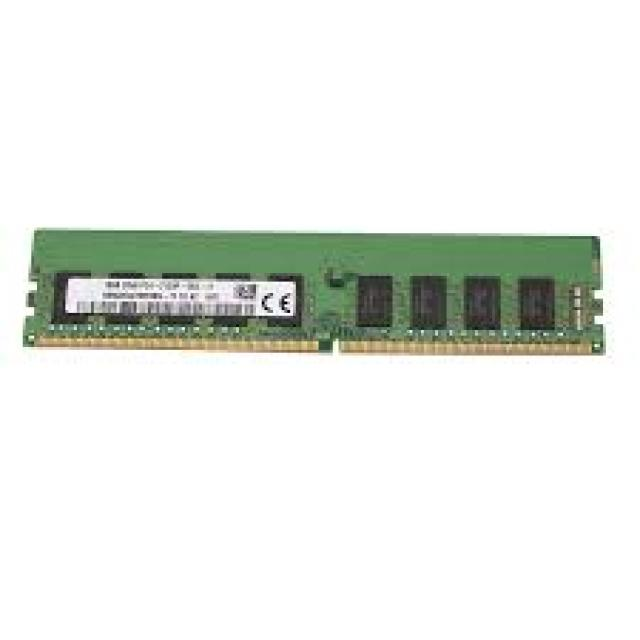Ram: (11, 98, 624, 478)
